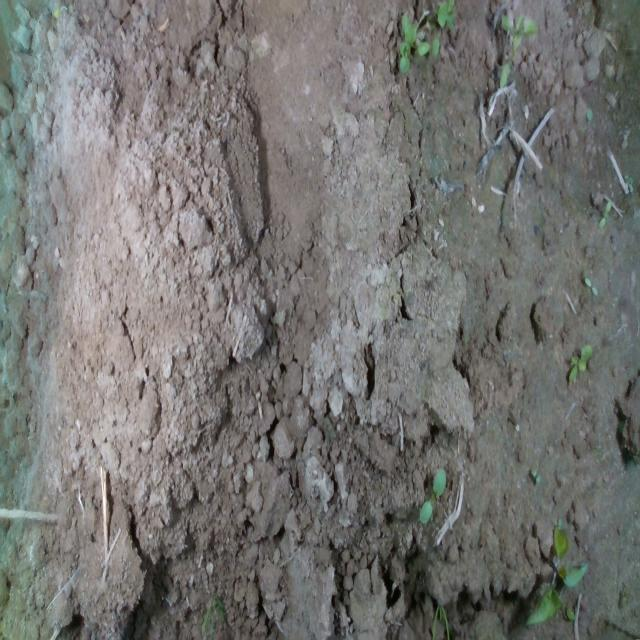weed: (567, 342, 593, 384), (598, 199, 612, 230)
